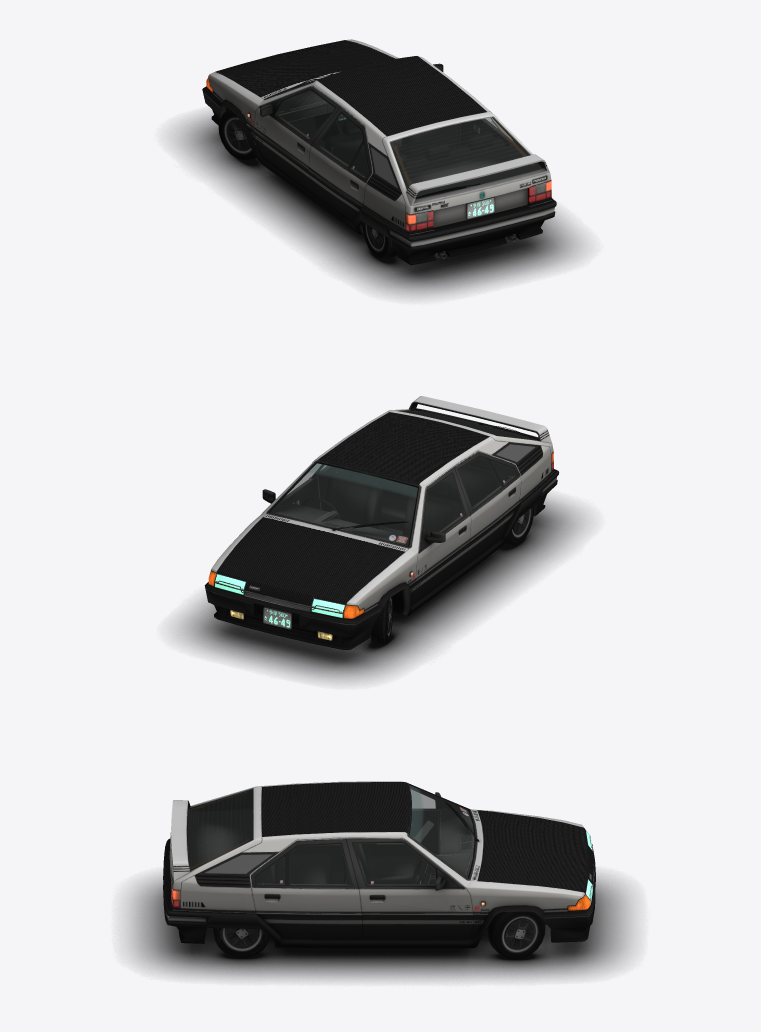
3 views of the same model, one above another, from view 1: azimuth 30°, elevation 25°; view 2: azimuth 150°, elevation 25°; view 3: azimuth 270°, elevation 25° (orthographic). The views are drawn at different scales.
Parts seen in each view (by area): view 1: citroenbxlowpoly_citroen_0, Plane004, windows_windows_0, Object008_interior_0, Cylinder001_tires_0; view 2: citroenbxlowpoly_citroen_0, Plane004, windows_windows_0, Object008_interior_0, Cylinder001_tires_0; view 3: citroenbxlowpoly_citroen_0, Plane004, windows_windows_0, Object008_interior_0, Cylinder001_tires_0.
Part boxes in pixels (bbox=[...]): citroenbxlowpoly_citroen_0: bbox=[202, 39, 556, 265]; Plane004: bbox=[172, 112, 584, 296]; windows_windows_0: bbox=[275, 89, 541, 198]; Object008_interior_0: bbox=[275, 90, 541, 199]; Cylinder001_tires_0: bbox=[218, 109, 396, 259]; citroenbxlowpoly_citroen_0: bbox=[204, 396, 559, 649]; Plane004: bbox=[175, 496, 587, 682]; windows_windows_0: bbox=[270, 410, 538, 545]; Object008_interior_0: bbox=[270, 410, 538, 545]; Cylinder001_tires_0: bbox=[370, 506, 534, 644]; citroenbxlowpoly_citroen_0: bbox=[163, 781, 595, 948]; Plane004: bbox=[126, 874, 633, 980]; windows_windows_0: bbox=[187, 786, 474, 885]; Object008_interior_0: bbox=[187, 786, 474, 885]; Cylinder001_tires_0: bbox=[213, 911, 545, 959].
Size of the model in its own units: 724 by 215 by 1203.
Materials: 5 (5 with a texture image).
